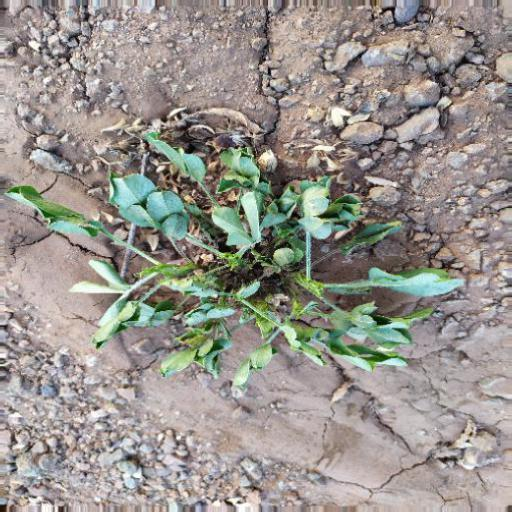weed: (57, 101, 455, 392)
